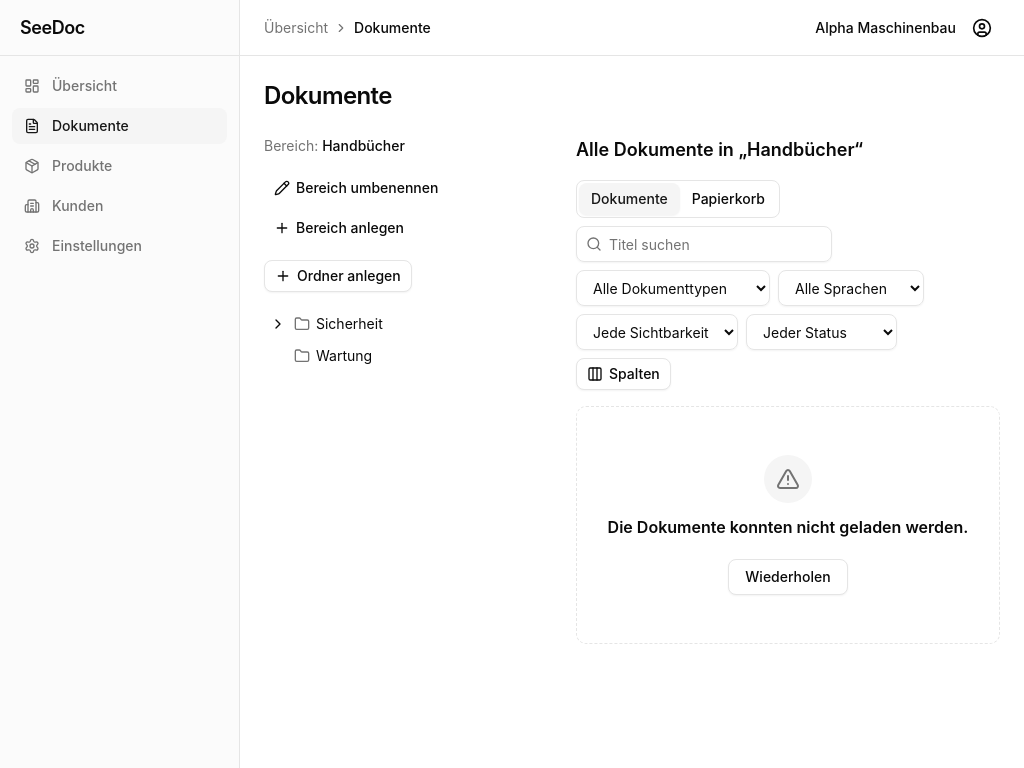
Test: DocumentsPage – changing folders › creates a top-level folder with defaults and selects it
Click the button "Ordner anlegen".
click(338, 276)  # box [264,260,412,292]
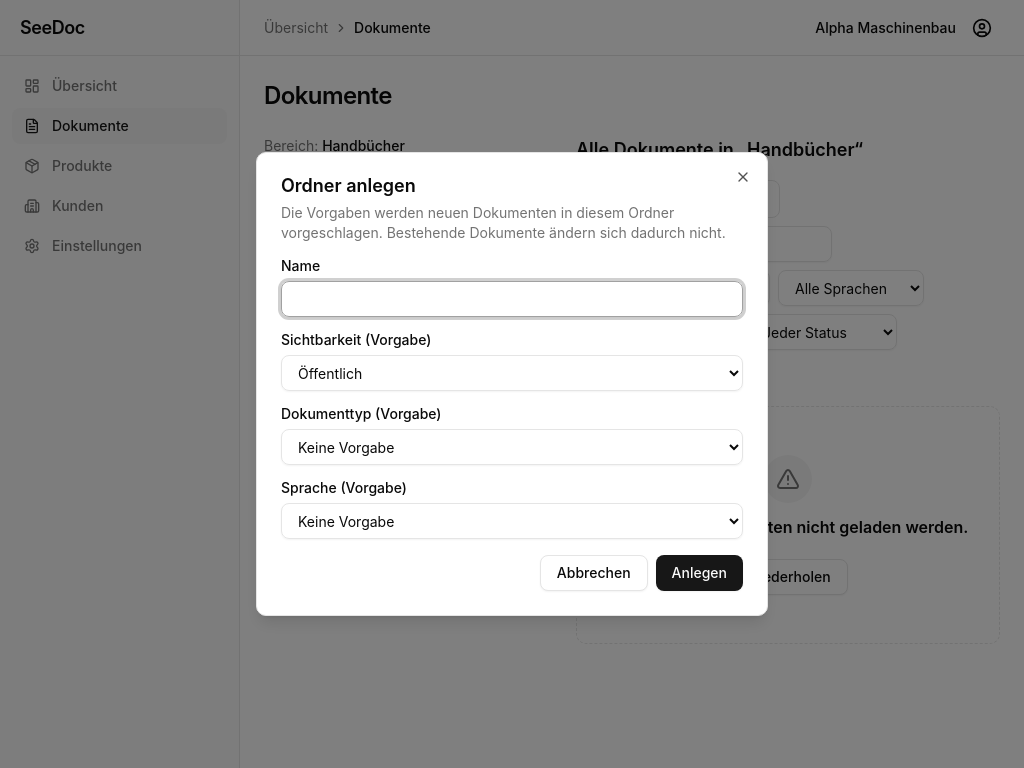
Type "  Betrieb  " into the field labelled "Name".
click(512, 299); type("  Betrieb  ")  # box [281,281,743,317]
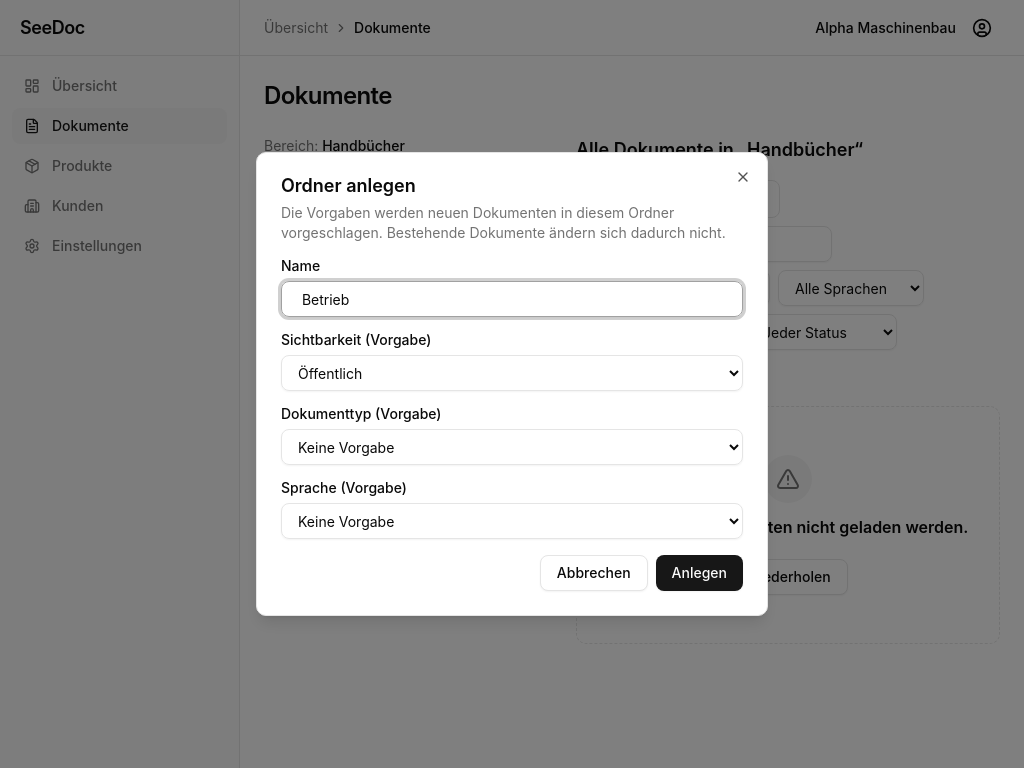
Select "Betriebsanleitung" in the dropdown labelled "Dokumenttyp (Vorgabe)" at coordinates (512, 447), box [281,429,743,465]
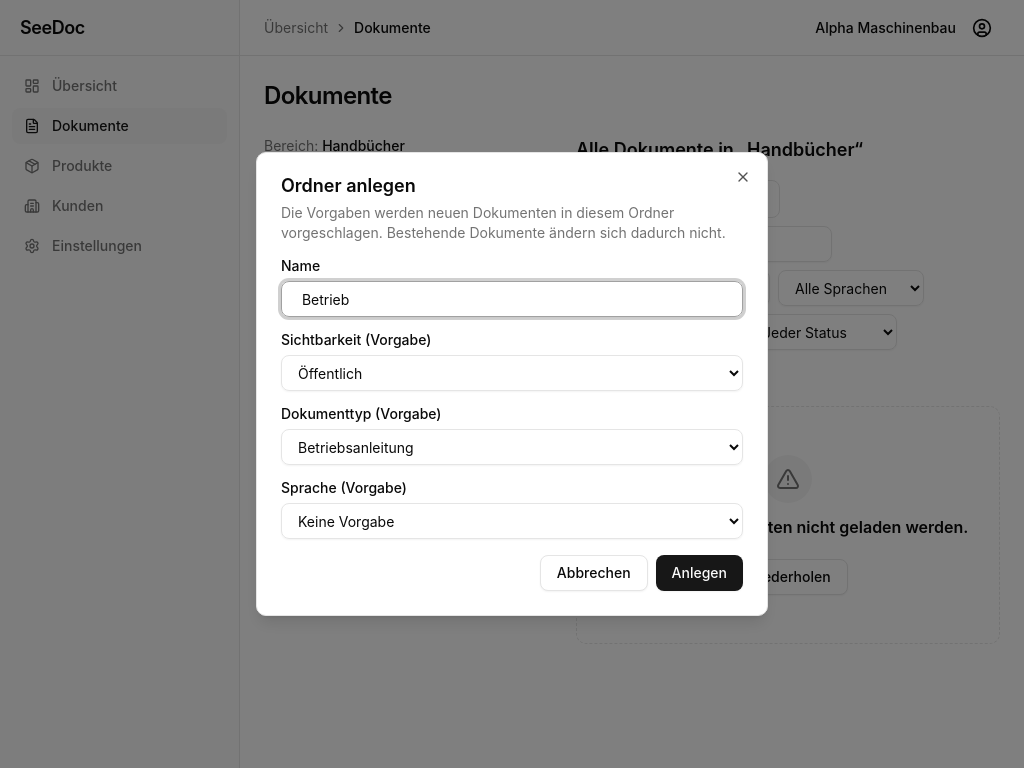
Select "Deutsch" in the dropdown labelled "Sprache (Vorgabe)" at coordinates (512, 521), box [281,503,743,539]
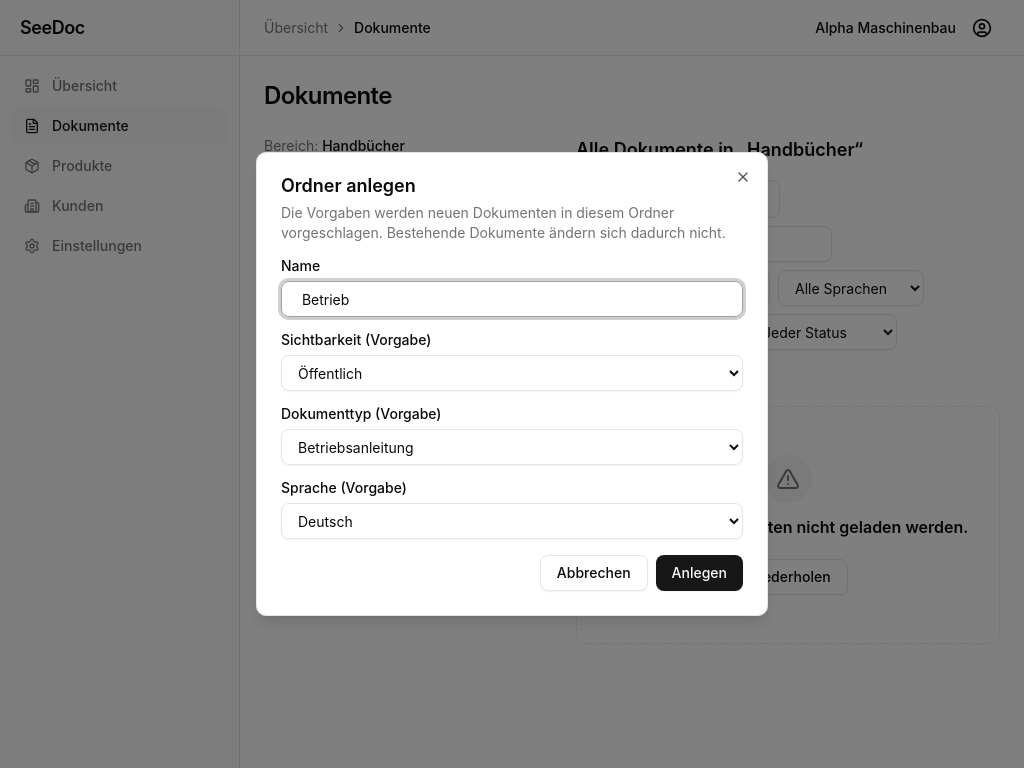
Click the button "Anlegen".
click(699, 573)  # box [656,555,743,591]
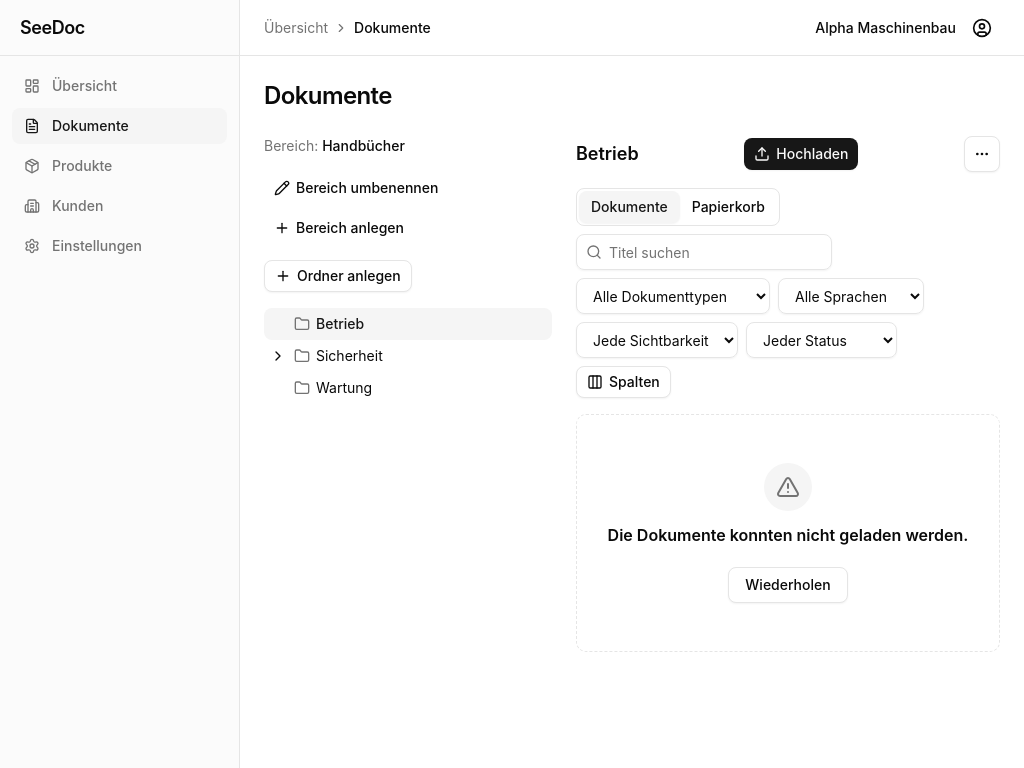
Expected: the heading "Betrieb" is shown, [576,140,639,168]
